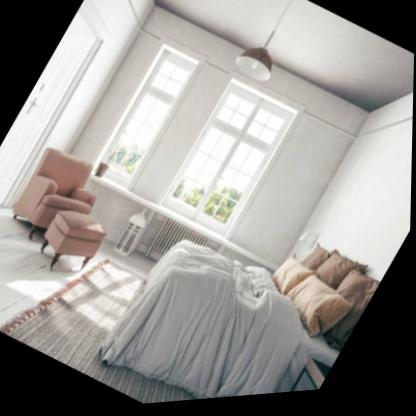Door: (0, 31, 99, 210)
Window: (159, 71, 305, 247), (87, 36, 206, 194)
